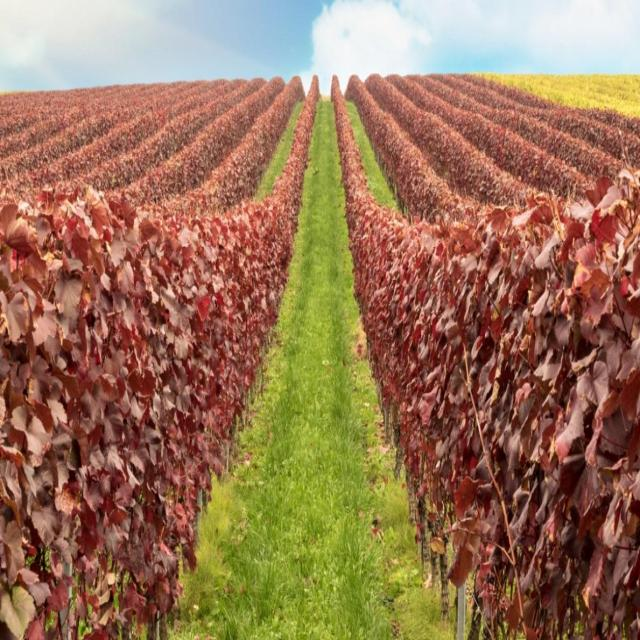row: (141, 94, 463, 640), (346, 95, 408, 215), (247, 92, 309, 201)
